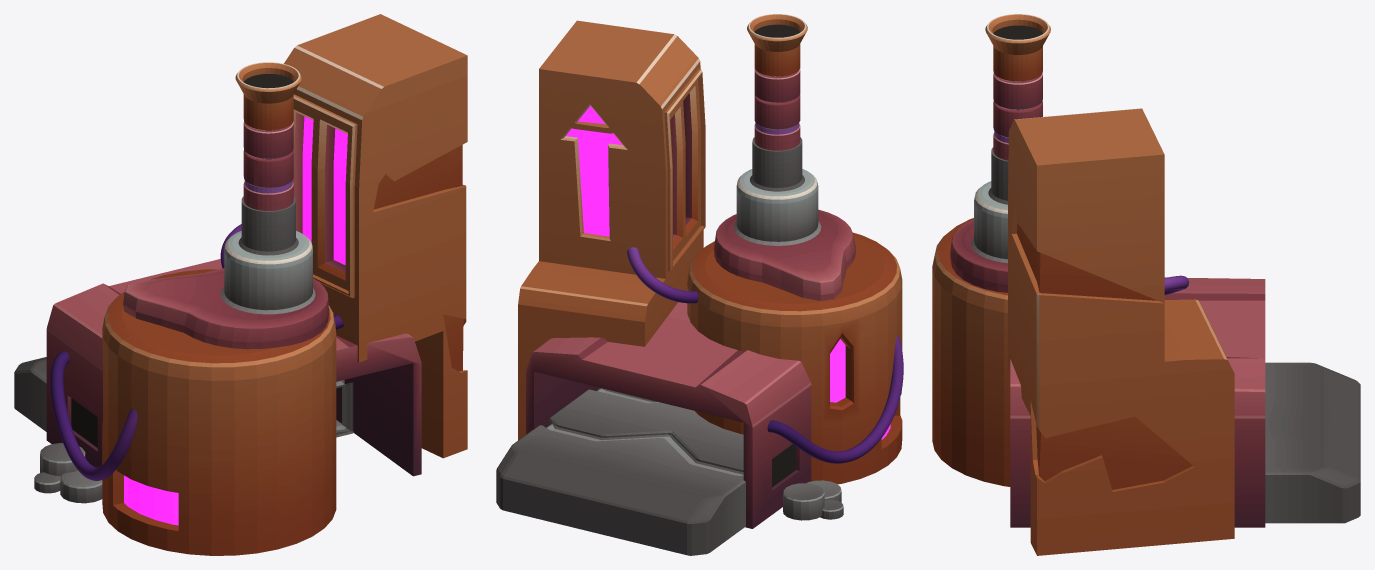
Rendered from TransferUp.glb.
3 views of the same model, side by side, from view 1: azimuth 30°, elevation 25°; view 2: azimuth 150°, elevation 25°; view 3: azimuth 270°, elevation 25° (orthographic). The views are drawn at different scales.
Visible parts, largest first — view 1: Transfer; view 2: Transfer; view 3: Transfer.
Part boxes in pixels (x1=…): Transfer: x1=14, y1=14, x2=467, y2=555; Transfer: x1=496, y1=14, x2=903, y2=555; Transfer: x1=932, y1=14, x2=1360, y2=555.
Size of the model in its own units: 1.85 by 2.16 by 1.92.
Materials: 2 (1 with a texture image).
